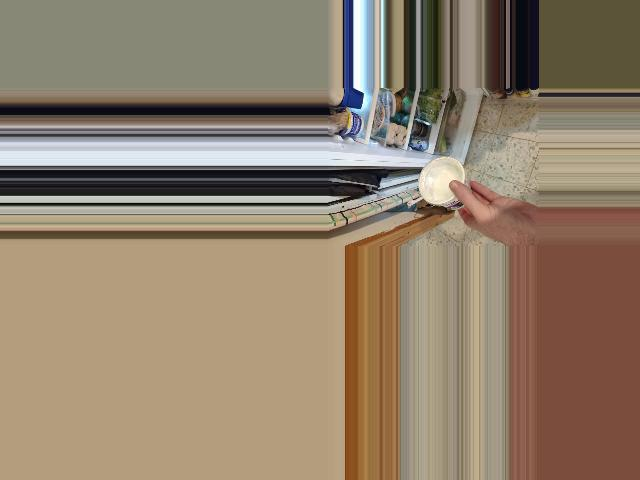cotage: (416, 156, 475, 217)
